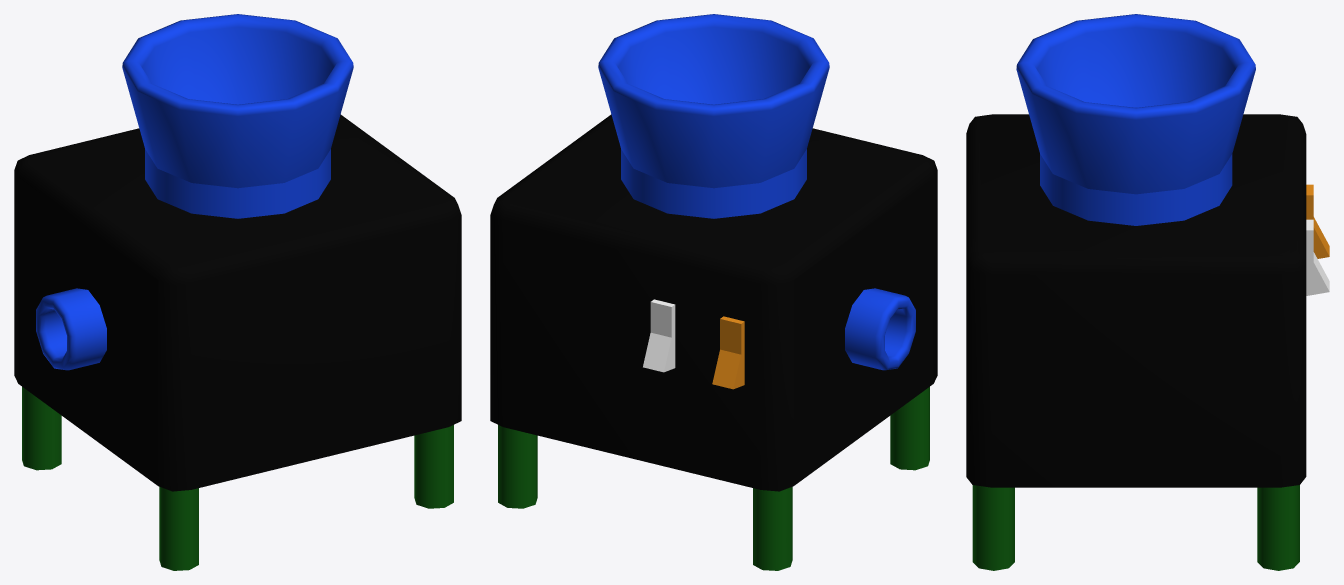
The model's file is salad machine.FBX.
3 renders of one model, left to right at view 1: azimuth 30°, elevation 25°; view 2: azimuth 150°, elevation 25°; view 3: azimuth 270°, elevation 25°, orthographic. The views are drawn at different scales.
Visible parts, largest first — view 1: Box1146; view 2: Box1146; view 3: Box1146.
Boxes of the visible parts, bbox=[...] form: Box1146: bbox=[14, 14, 461, 570]; Box1146: bbox=[490, 14, 937, 570]; Box1146: bbox=[966, 14, 1329, 570].
Size of the model in its own units: 1.37 by 1.64 by 1.24.
